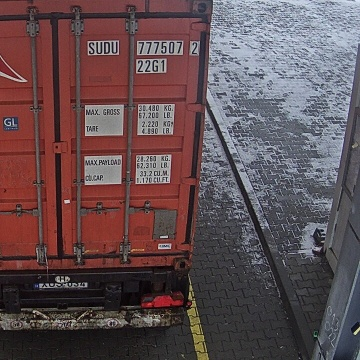serial_id: (88, 42, 198, 54)
